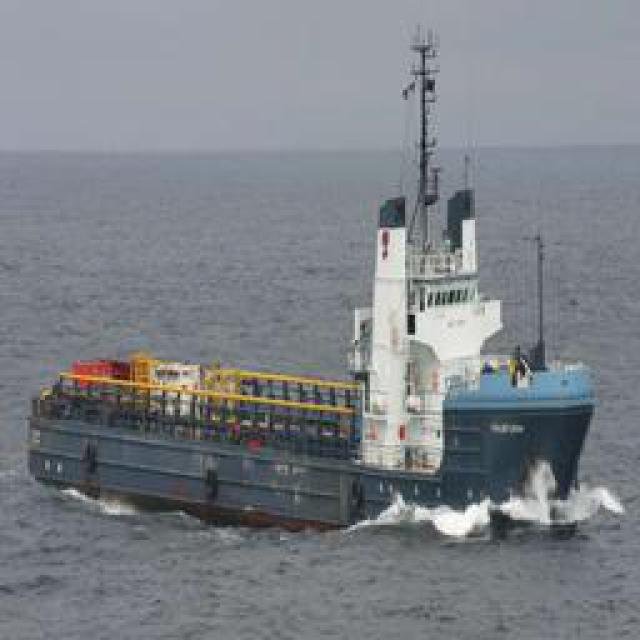Ship: (25, 273, 605, 531)
